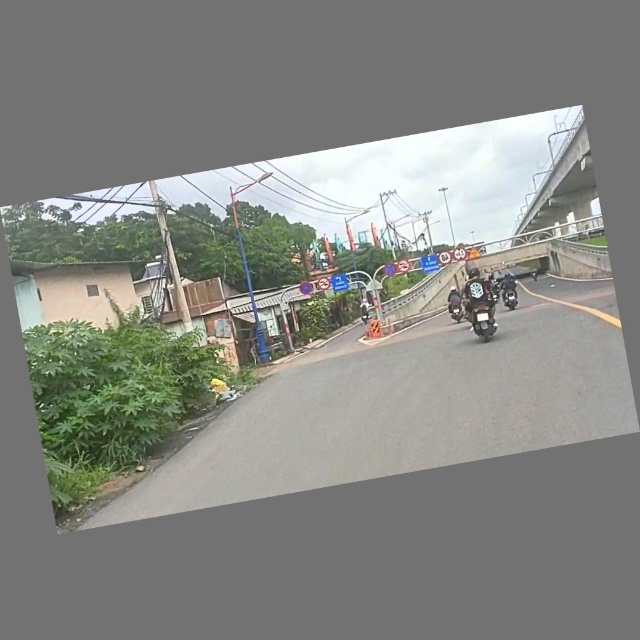P.107: (396, 258, 411, 274), (316, 277, 332, 292)
P.117*: (452, 246, 467, 262)
P.127*40: (438, 251, 453, 267)
P.130: (382, 263, 398, 278), (298, 281, 313, 296)
W.239b*: (466, 245, 482, 262)
